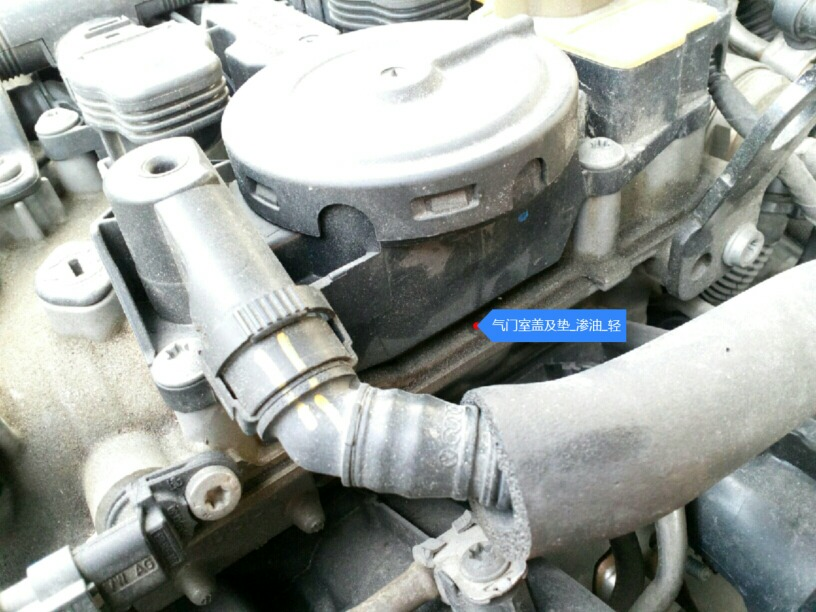oil: (317, 234, 459, 342)
